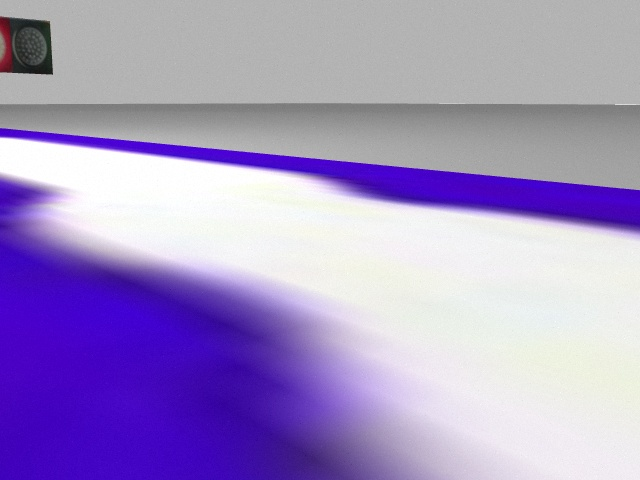red: (1, 17, 8, 68)
